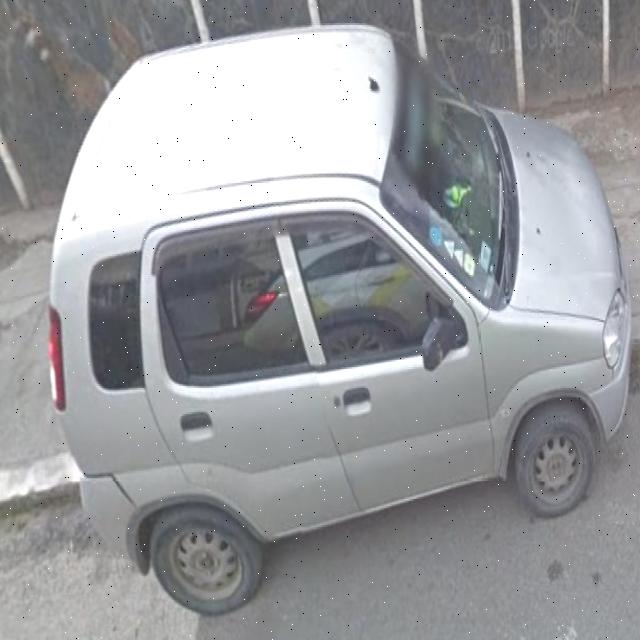car: (44, 24, 636, 611)
